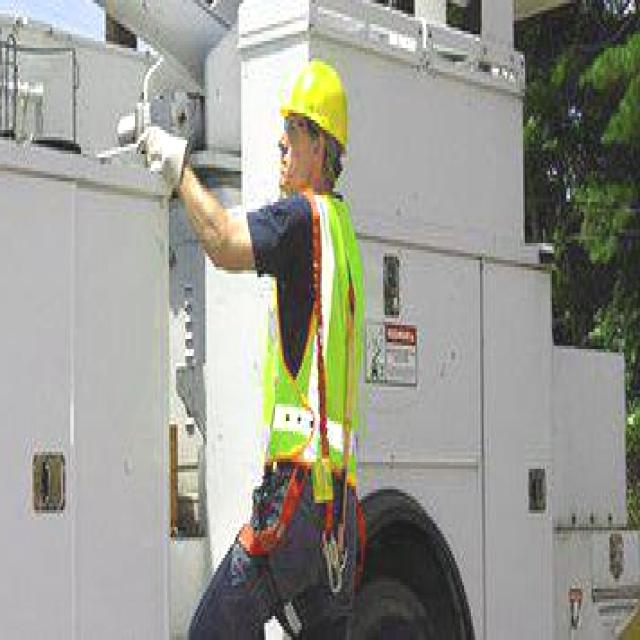face_nomask: (255, 106, 324, 195)
hand_glove: (146, 120, 187, 202)
head_helmet: (268, 55, 356, 144)
person: (206, 51, 386, 640)
vest: (250, 185, 367, 486)
